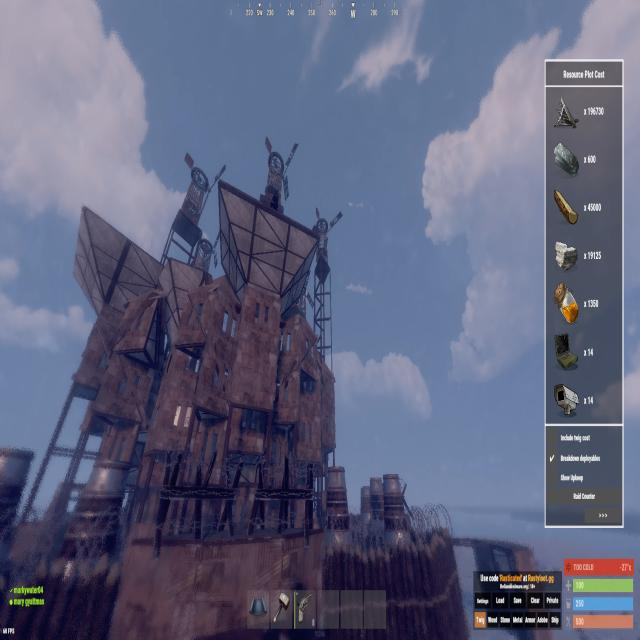Player: (270, 190, 279, 213)
